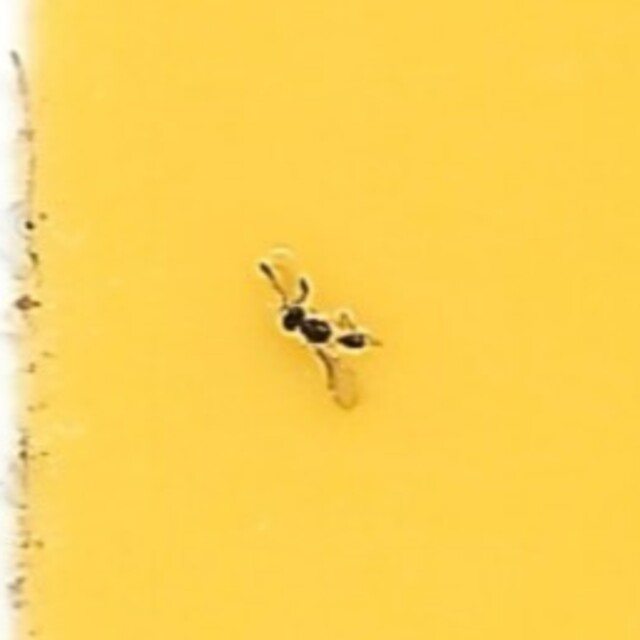Hymenoptera: (249, 243, 391, 397)
